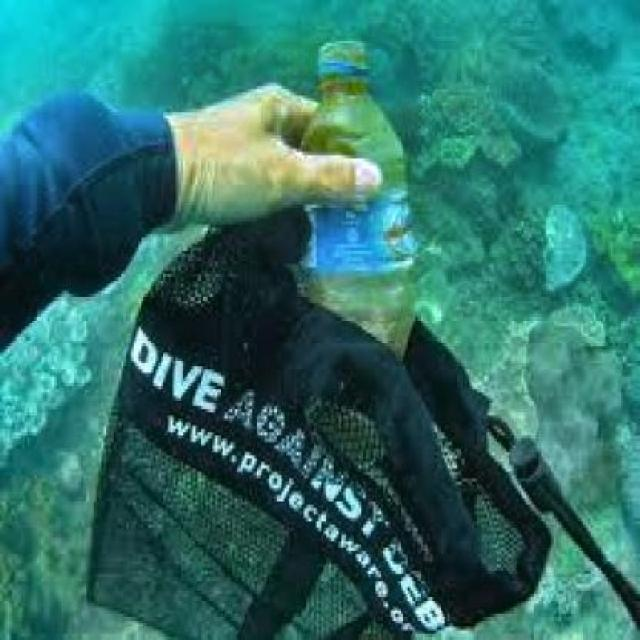pbottle: (288, 26, 418, 472)
